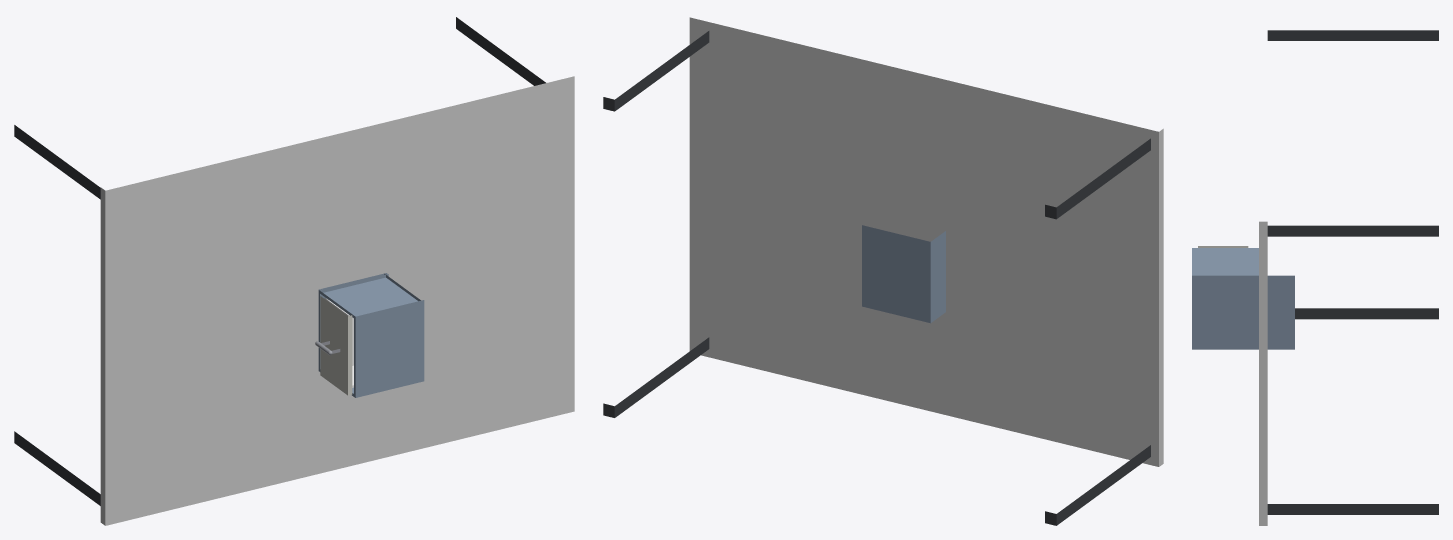
The picture shows the model from 3 angles, left to right: view 1: azimuth 30°, elevation 25°; view 2: azimuth 150°, elevation 25°; view 3: azimuth 270°, elevation 25°; orthographic projection. The views are drawn at different scales.
Parts seen in each view (by area): view 1: s0, s1, s2; view 2: s0, s1; view 3: s0, s1.
Part boxes in pixels (x1,y1,x2,y2): s0: (14,17,574,525); s1: (318,273,424,397); s2: (315,296,353,395); s0: (603,17,1163,525); s1: (862,225,945,323); s0: (1259,30,1438,525); s1: (1192,248,1294,349).
Size of the model in its own units: 2.05 by 1.4 by 1.03.
